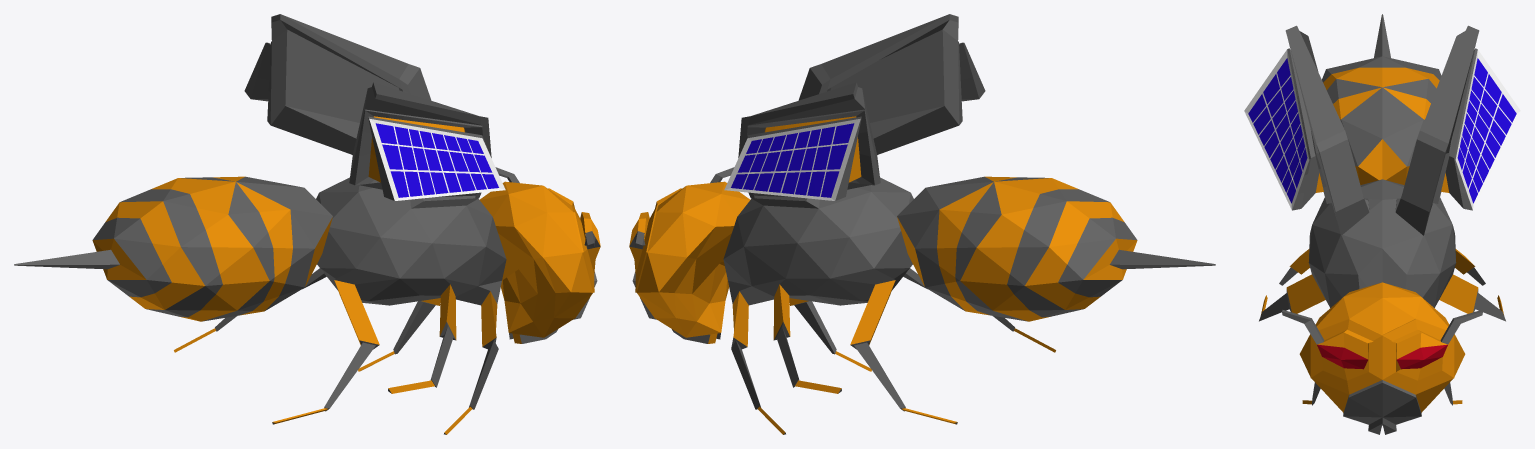
Rendered from hornetrotatescale.fbx.
The picture shows the model from 3 angles, left to right: view 1: azimuth 30°, elevation 25°; view 2: azimuth 150°, elevation 25°; view 3: azimuth 270°, elevation 25°; orthographic projection. The views are drawn at different scales.
Parts seen in each view (by area): view 1: Icosphere; view 2: Icosphere; view 3: Icosphere.
Boxes of the visible parts, <box> form: Icosphere: <box>14,14,600,434</box>; Icosphere: <box>629,14,1215,434</box>; Icosphere: <box>1244,14,1520,434</box>.
Bounding box in the file's own units: 333 × 208 × 151.
